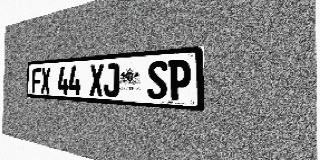4: (69, 65, 81, 95), (58, 66, 69, 95)
F: (32, 68, 41, 93)
J: (104, 63, 119, 97)
P: (168, 59, 191, 101)
S: (147, 60, 168, 100)
X: (90, 64, 104, 96), (41, 67, 51, 94)
